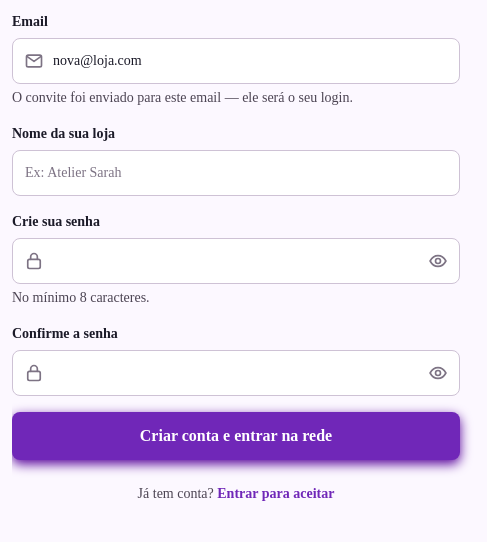
Test: InviteSignupForm (VES-95) › shows field errors and keeps what was typed
The width and height of the screenshot is (487, 542).
In the field labelled "Nome da sua loja": coordinates (236, 173) [12,150,460,196], type "Atelier Sarah"
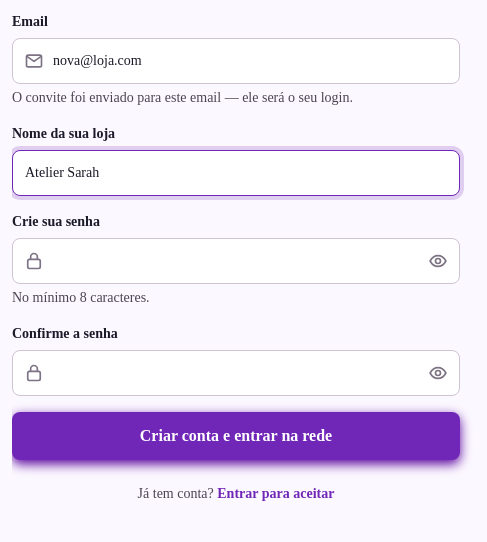
Click the button "Criar conta e entrar na rede": coordinates (236, 436) [12,412,460,460]
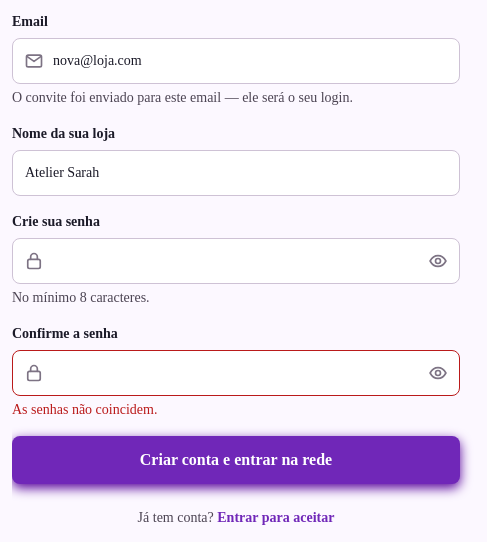
Expected: the text "As senhas não coincidem." is shown, [12,402,157,417]
